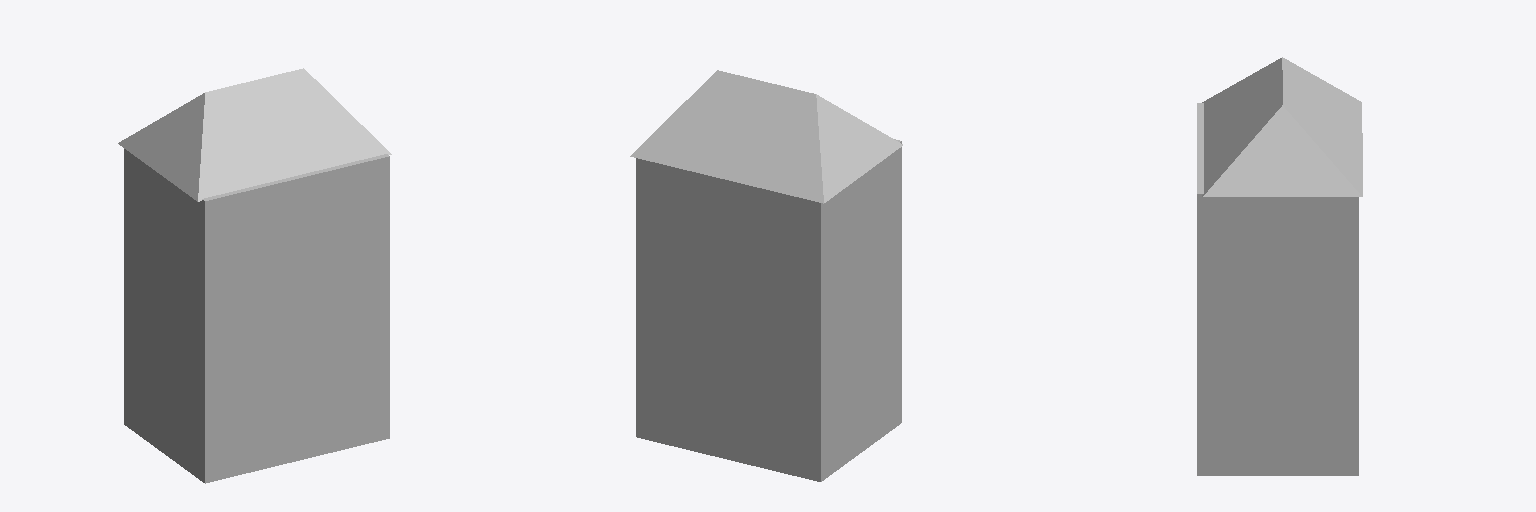
Rendered from taller_nowindow.obj.
3 views of the same model, side by side, from view 1: azimuth 30°, elevation 25°; view 2: azimuth 150°, elevation 25°; view 3: azimuth 270°, elevation 25° (orthographic).
Visible parts, largest first — view 1: pCube6, pPyramid2; view 2: pCube6, pPyramid2; view 3: pCube6, pPyramid2.
Boxes of the visible parts, x1=… form: pCube6: x1=124, y1=149, x2=389, y2=483; pPyramid2: x1=118, y1=68, x2=391, y2=201; pCube6: x1=636, y1=139, x2=901, y2=481; pPyramid2: x1=630, y1=70, x2=902, y2=203; pCube6: x1=1197, y1=103, x2=1358, y2=475; pPyramid2: x1=1202, y1=57, x2=1362, y2=196.
Bounding box in the file's own units: 1.51 × 2.59 × 1.11.